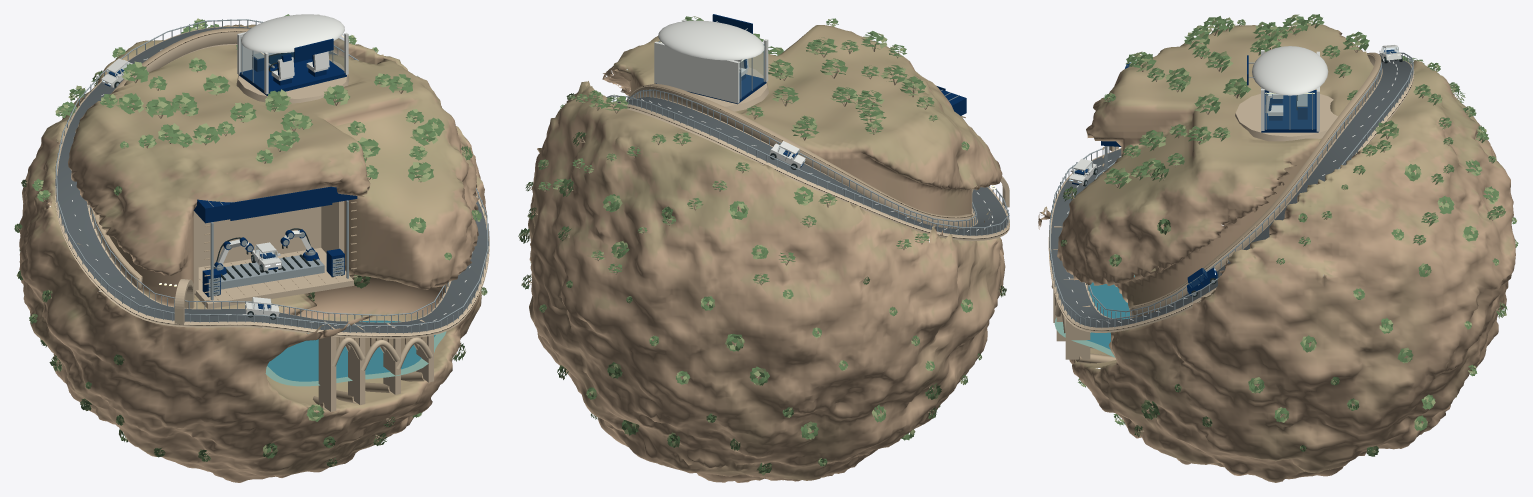
Rendered from hyundai-refined-v2-low.glb.
3 views of the same model, side by side, from view 1: azimuth 30°, elevation 25°; view 2: azimuth 150°, elevation 25°; view 3: azimuth 270°, elevation 25° (orthographic). The views are drawn at different scales.
Visible parts, largest first — view 1: motor_layered_terrain, motor_cut_stone, motor_asphalt, motor_coastal_leaf, motor_brushed_steel, motor_navy_002C5F, motor_white_enamel, motor_coastal_leaf_light, motor_warm_limestone, motor_bay_water, motor_glass, motor_shallow_water (+1 smaller); view 2: motor_layered_terrain, motor_coastal_leaf, motor_white_enamel (×2), motor_cut_stone, motor_asphalt, motor_coastal_leaf_light, motor_brushed_steel, motor_warm_limestone, motor_navy_002C5F, motor_glass; view 3: motor_layered_terrain, motor_coastal_leaf, motor_asphalt, motor_cut_stone, motor_coastal_leaf_light, motor_white_enamel, motor_brushed_steel, motor_warm_limestone, motor_navy_002C5F, motor_glass, motor_bay_water.
Boxes of the visible parts, x1,y1,x2,y2 form: motor_layered_terrain: [19, 24, 486, 482]; motor_cut_stone: [55, 26, 489, 411]; motor_asphalt: [57, 26, 487, 332]; motor_coastal_leaf: [14, 14, 487, 466]; motor_brushed_steel: [55, 19, 489, 333]; motor_navy_002C5F: [193, 38, 357, 296]; motor_white_enamel: [71, 14, 472, 327]; motor_coastal_leaf_light: [16, 18, 486, 465]; motor_warm_limestone: [19, 25, 483, 461]; motor_bay_water: [267, 320, 435, 381]; motor_glass: [240, 34, 343, 259]; motor_shallow_water: [265, 331, 446, 386]; motor_layered_terrain: [528, 25, 1005, 482]; motor_coastal_leaf: [518, 16, 1006, 473]; motor_white_enamel (×2): [627, 19, 993, 231]; motor_cut_stone: [614, 67, 1009, 240]; motor_asphalt: [617, 97, 1007, 235]; motor_coastal_leaf_light: [519, 16, 1005, 475]; motor_brushed_steel: [606, 21, 1009, 235]; motor_warm_limestone: [527, 23, 1002, 467]; motor_navy_002C5F: [656, 14, 966, 115]; motor_glass: [660, 41, 763, 96]; motor_layered_terrain: [1038, 24, 1515, 482]; motor_coastal_leaf: [1061, 14, 1518, 456]; motor_asphalt: [1051, 59, 1411, 327]; motor_cut_stone: [1048, 55, 1414, 359]; motor_coastal_leaf_light: [1060, 14, 1516, 454]; motor_white_enamel: [1067, 46, 1397, 323]; motor_brushed_steel: [1049, 52, 1413, 327]; motor_warm_limestone: [1065, 20, 1513, 432]; motor_navy_002C5F: [1101, 55, 1318, 146]; motor_glass: [1265, 92, 1314, 129]; motor_bay_water: [1086, 276, 1134, 349].
Size of the model in its own units: 18.61 by 17.78 by 18.46.
